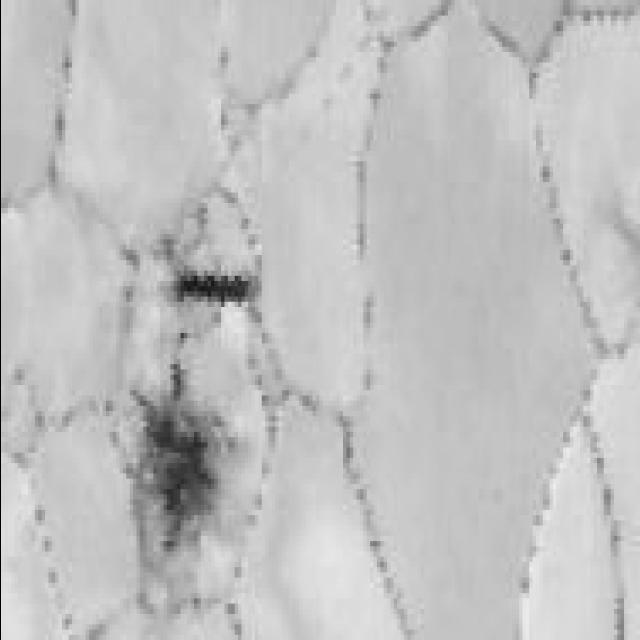good_void: (121, 390, 233, 556), (172, 268, 254, 307), (165, 357, 187, 399), (175, 327, 188, 343)
